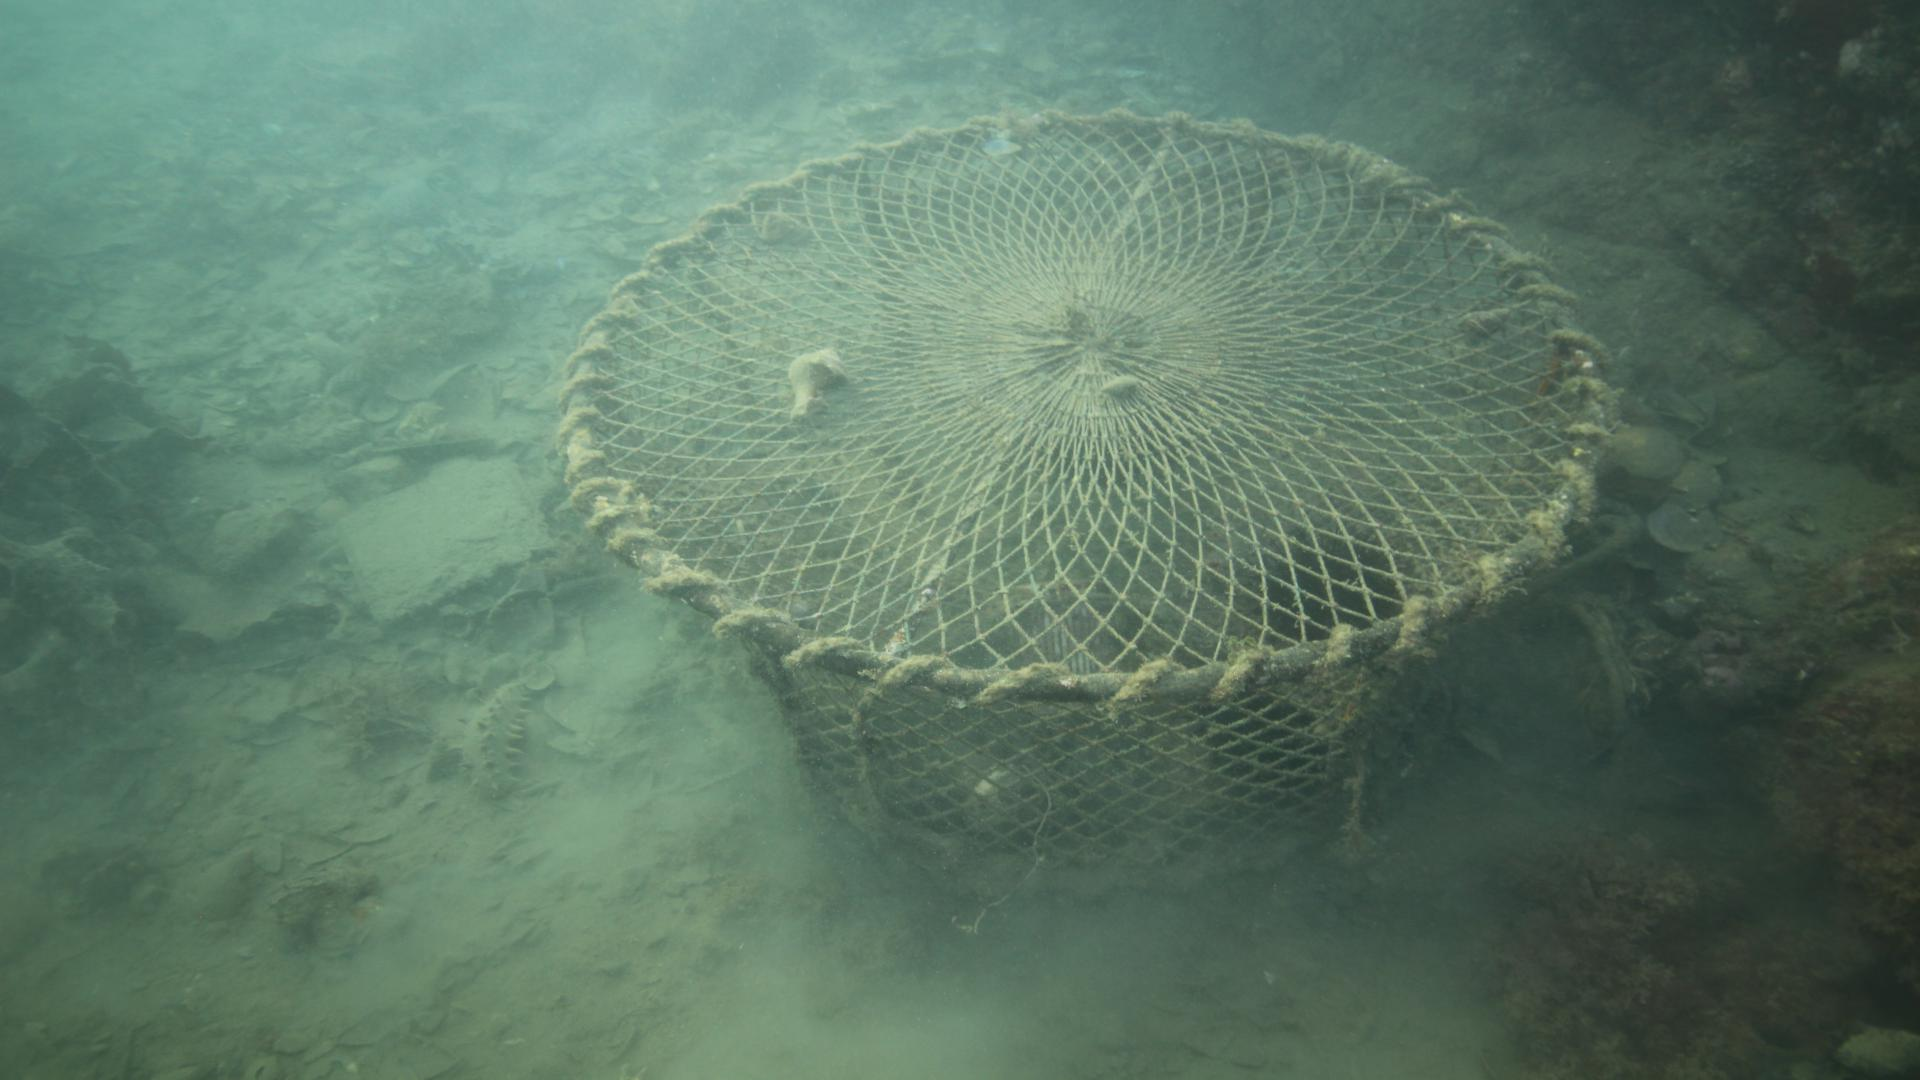circular fish trap: (553, 104, 1611, 898)
